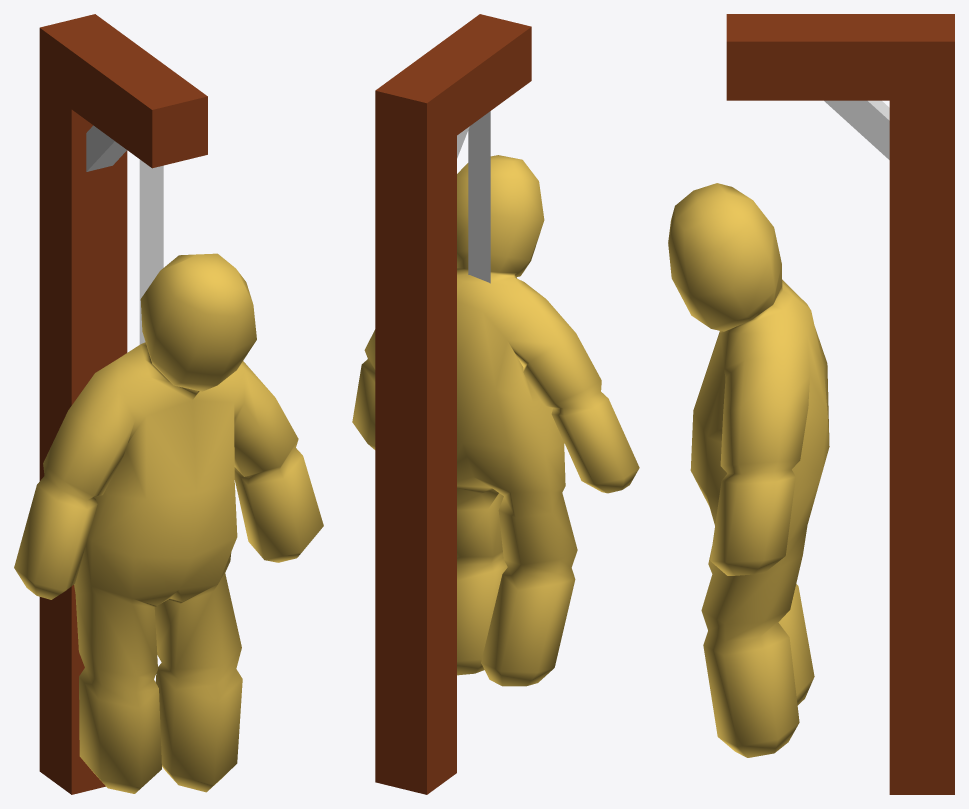
File: dummy_applied.fbx
3 renders of one model, left to right at view 1: azimuth 30°, elevation 25°; view 2: azimuth 150°, elevation 25°; view 3: azimuth 270°, elevation 25°, orthographic. The views are drawn at different scales.
Visible parts, largest first — view 1: misc_practiceDummy; view 2: misc_practiceDummy; view 3: misc_practiceDummy.
Boxes of the visible parts, x1,y1,x2,y2 form: misc_practiceDummy: [14, 14, 323, 794]; misc_practiceDummy: [352, 14, 639, 794]; misc_practiceDummy: [668, 14, 954, 794].
Bounding box in the file's own units: 526 × 1275 × 440.
